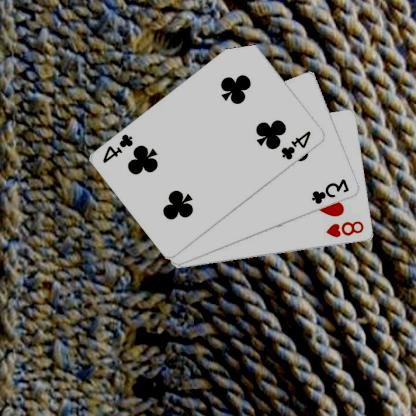3C: (311, 176, 352, 206)
4C: (102, 131, 137, 165), (280, 129, 314, 161)
8H: (325, 218, 367, 239)
